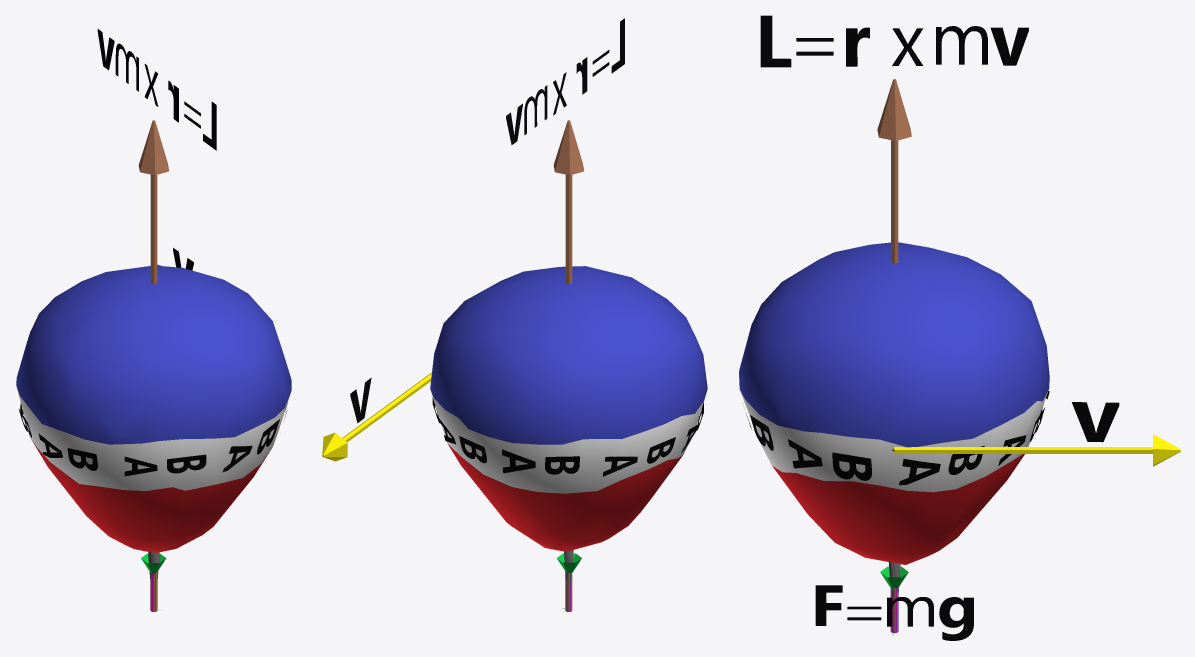
The model's file is spinningTop.glb.
3 views of the same model, side by side, from view 1: azimuth 30°, elevation 25°; view 2: azimuth 150°, elevation 25°; view 3: azimuth 270°, elevation 25° (orthographic). The views are drawn at different scales.
Visible parts, largest first — view 1: top, L, lLabel; view 2: top, L, lLabel, vel; view 3: top, lLabel, mgLabel, L, vel, vLabel.
Part boxes in pixels (x1,y1,x2,y2): top: [16, 265, 291, 582]; L: [138, 120, 169, 611]; lLabel: [97, 29, 216, 150]; top: [430, 266, 707, 585]; L: [553, 120, 583, 611]; lLabel: [506, 18, 624, 144]; vel: [322, 372, 431, 461]; top: [739, 242, 1049, 600]; lLabel: [760, 15, 1028, 67]; mgLabel: [815, 585, 973, 640]; L: [877, 79, 911, 632]; vel: [894, 434, 1180, 466]; vLabel: [1072, 402, 1119, 442].
Bounding box in the file's own units: 1.04 × 2.2 × 1.41.
Materials: 1 (1 with a texture image).
